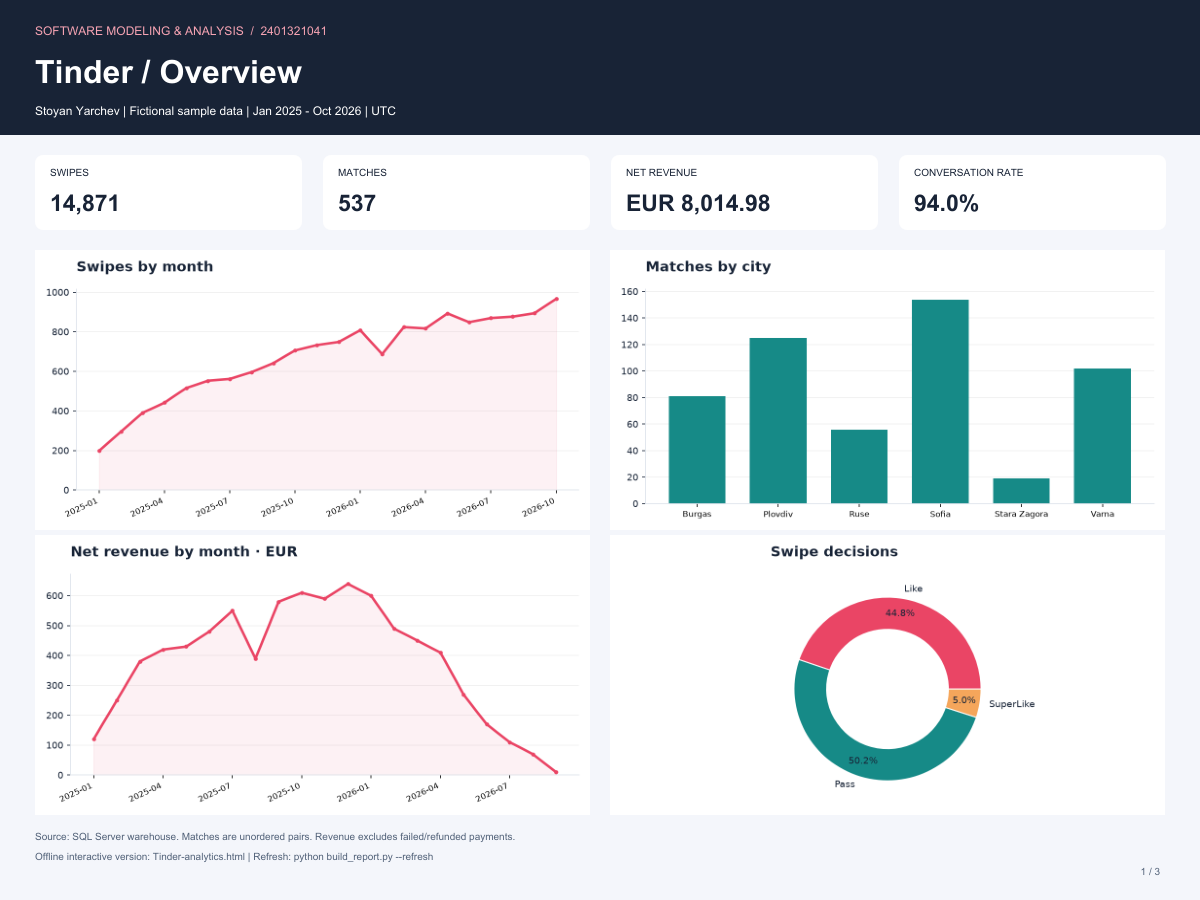

What the dashboard file says about the page in this screenshot:
{"tool":"powerbi","page":{"name":"01 | Overview","canvas":[1280,800],"ordinal":0},"visuals":[{"type":"slicer","title":"Year","fields":{"Values":["DimDate.Year"]},"box":[20,15,300,100],"z":0},{"type":"slicer","title":"City","fields":{"Values":["DimCity.CityName"]},"box":[340,15,300,100],"z":1},{"type":"cardVisual","title":"Total Swipes","fields":{"Data":["FactSwipes.Total Swipes"]},"box":[20,125,300,110],"z":2},{"type":"cardVisual","title":"Total Matches","fields":{"Data":["FactMatches.Total Matches"]},"box":[335,125,300,110],"z":3},{"type":"cardVisual","title":"Net Revenue","fields":{"Data":["FactPayments.Net Revenue"]},"box":[650,125,300,110],"z":4},{"type":"cardVisual","title":"Conversation Rate","fields":{"Data":["FactMatches.Conversation Rate"]},"box":[965,125,300,110],"z":5},{"type":"lineChart","title":"Swipes by month","fields":{"Category":["DimDate.YearMonth"],"Y":["FactSwipes.Total Swipes"]},"box":[20,260,610,240],"z":6},{"type":"clusteredBarChart","title":"Matches by city","fields":{"Category":["DimCity.CityName"],"Y":["FactMatches.Total Matches"]},"box":[650,260,610,240],"z":7},{"type":"lineChart","title":"Revenue by month (EUR)","fields":{"Category":["DimDate.YearMonth"],"Y":["FactPayments.Net Revenue"]},"box":[20,525,610,250],"z":8},{"type":"donutChart","title":"Swipe decisions","fields":{"Category":["DimSwipeType.SwipeType"],"Y":["FactSwipes.Total Swipes"]},"box":[650,525,610,250],"z":9}]}

Visuals, with their boxes on the page's 1280x800 design canvas (x1, y1, x2, y2). These are canvas units, not pixel positions in the 1200x900 screenshot, which may show the page scaled, cropped or inside an application window:
"Year" slicer: box=[20, 15, 320, 115]
"City" slicer: box=[340, 15, 640, 115]
"Total Swipes" cardVisual: box=[20, 125, 320, 235]
"Total Matches" cardVisual: box=[335, 125, 635, 235]
"Net Revenue" cardVisual: box=[650, 125, 950, 235]
"Conversation Rate" cardVisual: box=[965, 125, 1265, 235]
"Swipes by month" lineChart: box=[20, 260, 630, 500]
"Matches by city" clusteredBarChart: box=[650, 260, 1260, 500]
"Revenue by month (EUR)" lineChart: box=[20, 525, 630, 775]
"Swipe decisions" donutChart: box=[650, 525, 1260, 775]
